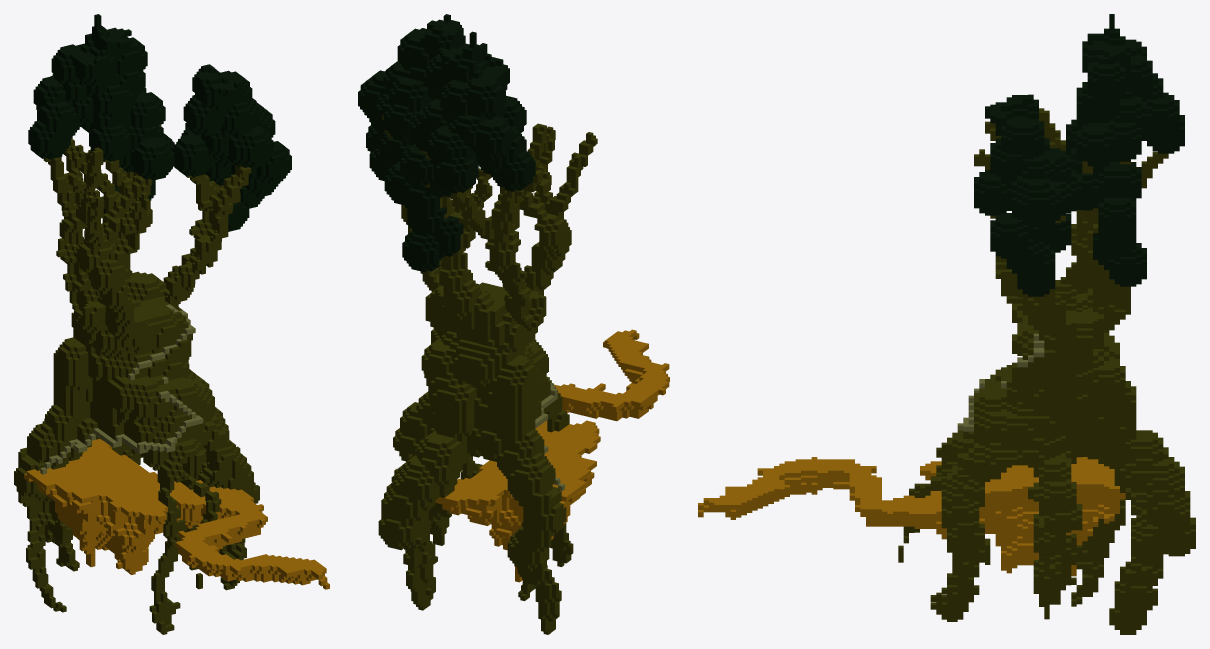
Rendered from Grandparents.obj.
3 renders of one model, left to right at view 1: azimuth 30°, elevation 25°; view 2: azimuth 150°, elevation 25°; view 3: azimuth 270°, elevation 25°, orthographic. The views are drawn at different scales.
Bounding box in the file's own units: 51 × 126 × 92.
Materials: 1 (1 with a texture image).
